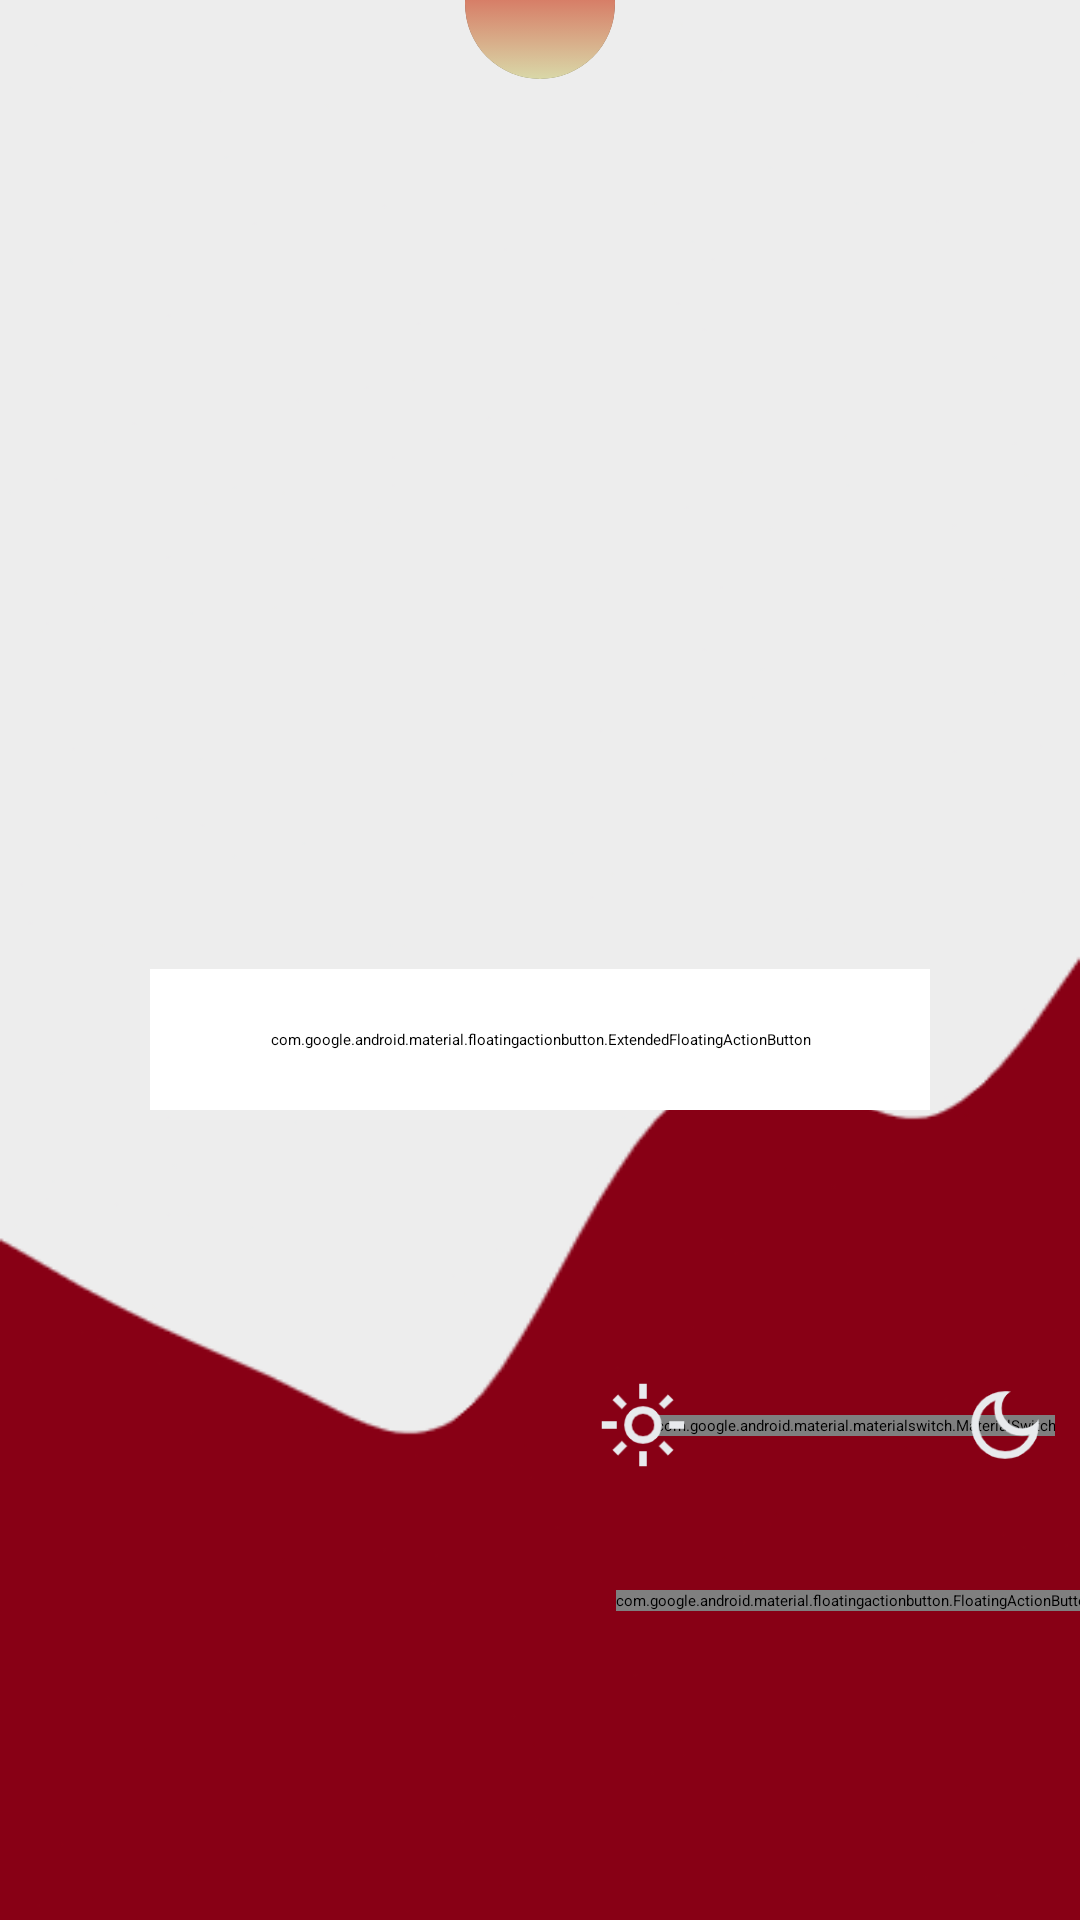

Icon bounding boxes for this 1080×1920 phone screenshot, format (x1, y1, x2, y2):
Icone mode jour: (601, 1383, 688, 1467)
Icone mode nuit: (960, 1391, 1050, 1459)
